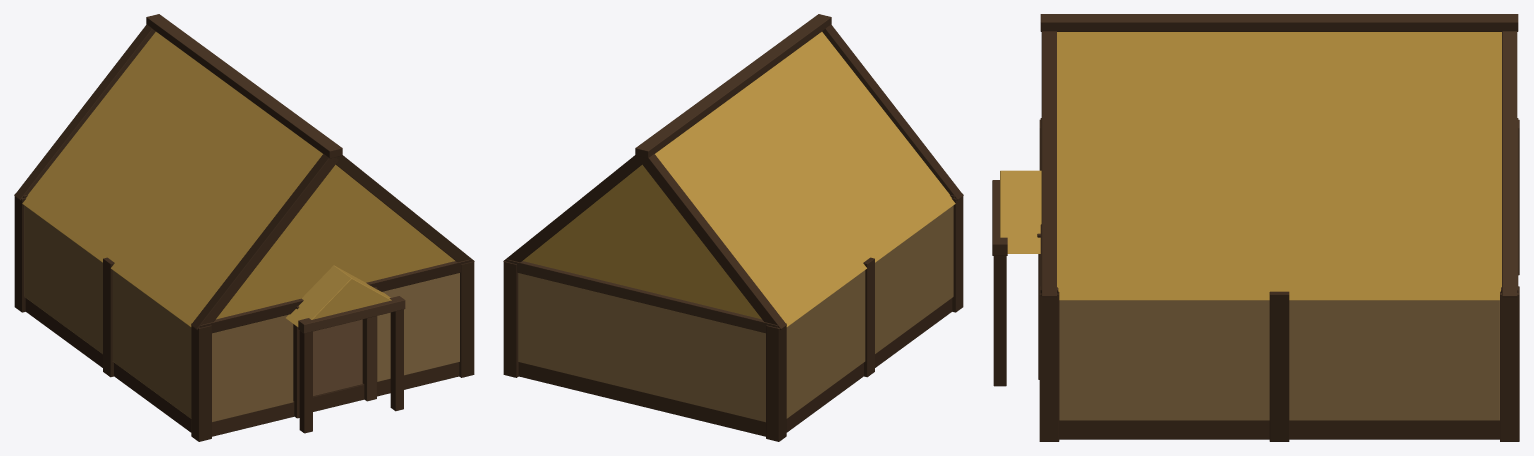
The model's file is House_Meso_a.fbx.
3 renders of one model, left to right at view 1: azimuth 30°, elevation 25°; view 2: azimuth 150°, elevation 25°; view 3: azimuth 270°, elevation 25°, orthographic. The views are drawn at different scales.
Visible parts, largest first — view 1: House_Meso_a; view 2: House_Meso_a; view 3: House_Meso_a.
Boxes of the visible parts, bbox=[...] form: House_Meso_a: bbox=[14, 14, 474, 441]; House_Meso_a: bbox=[503, 14, 963, 441]; House_Meso_a: bbox=[992, 14, 1519, 441].
Size of what is drawn, in the model's own units: 3.81 by 3.39 by 4.81.
